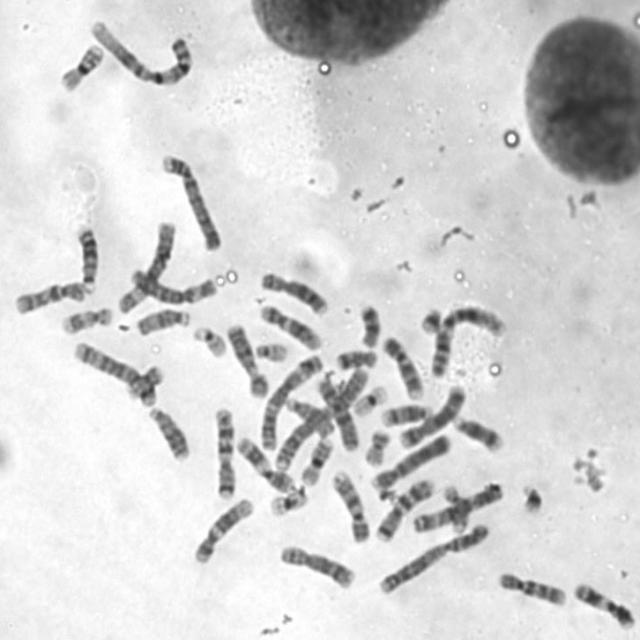A1: (88, 20, 198, 88), (429, 305, 509, 381)
A2: (272, 367, 371, 474), (376, 519, 492, 599)
A3: (258, 354, 324, 450), (413, 479, 504, 537)
B4: (159, 154, 224, 249), (368, 431, 456, 490)
B5: (395, 383, 469, 453), (73, 342, 155, 403)
C10: (12, 278, 88, 318), (494, 568, 570, 608)
C11: (237, 436, 296, 494), (574, 579, 635, 628)
C12: (192, 496, 256, 564), (255, 300, 324, 351)
C6: (115, 219, 178, 316), (126, 268, 219, 306)
C7: (369, 475, 440, 545), (210, 402, 239, 504)
C8: (279, 540, 356, 588), (256, 270, 328, 317)
C9: (378, 334, 426, 402), (330, 470, 372, 543)
D13: (146, 403, 190, 462), (72, 224, 100, 290)
D14: (451, 412, 505, 452), (376, 401, 434, 427)
D15: (284, 396, 336, 440), (133, 307, 194, 337)
E16: (56, 41, 106, 95), (298, 435, 336, 485)
E17: (58, 304, 116, 337), (442, 479, 473, 535)
E18: (356, 302, 384, 349), (334, 346, 377, 372)
F19: (267, 486, 311, 517), (352, 382, 388, 417)
F20: (124, 362, 167, 401), (361, 426, 392, 471)
G21: (415, 304, 446, 337), (517, 480, 545, 516)
G22: (190, 324, 228, 360), (251, 338, 289, 363)
X: (224, 322, 270, 402), (316, 376, 360, 454)
